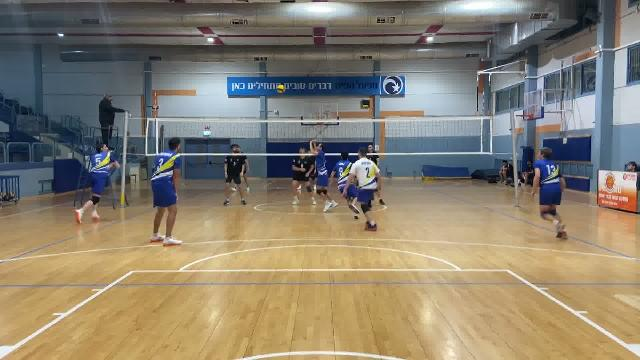ball: (275, 85, 287, 96)
